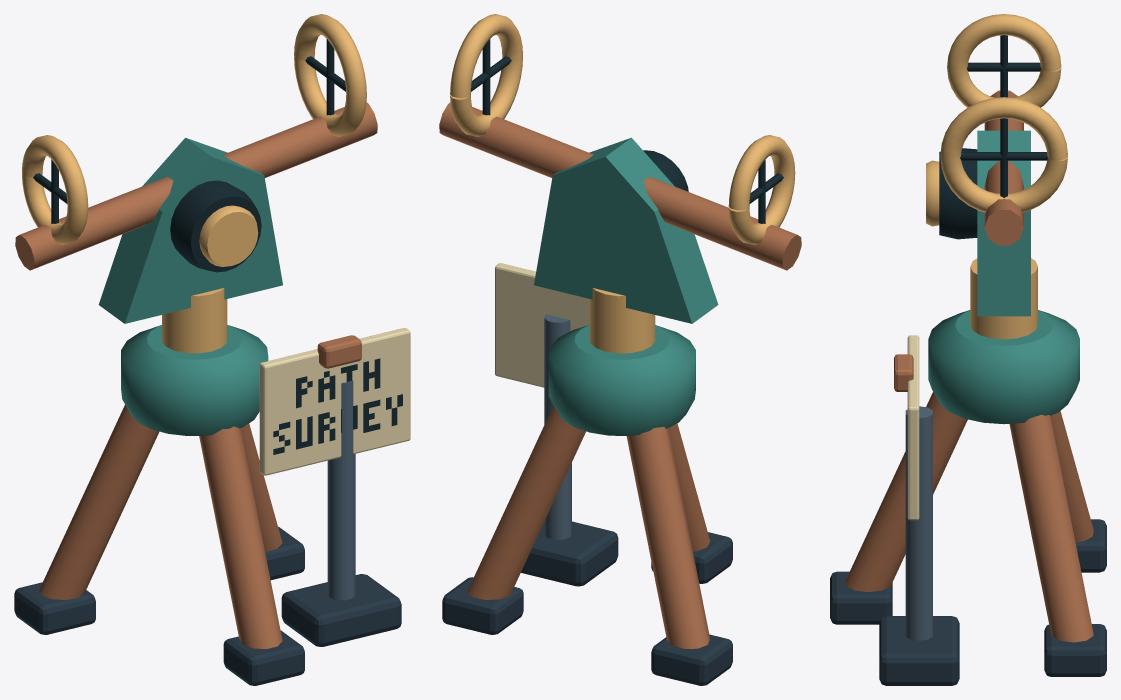
3 renders of one model, left to right at view 1: azimuth 30°, elevation 25°; view 2: azimuth 150°, elevation 25°; view 3: azimuth 270°, elevation 25°, orthographic. The views are drawn at different scales.
Visible parts, largest first — view 1: PR063 enamel and hardware; view 2: PR063 enamel and hardware; view 3: PR063 enamel and hardware.
Boxes of the visible parts, box(x1,y1,x2,y2) form: PR063 enamel and hardware: box(14, 14, 410, 685); PR063 enamel and hardware: box(439, 14, 801, 685); PR063 enamel and hardware: box(830, 14, 1106, 685).
Size of the model in its own units: 0.8625 by 1.35 by 0.5801.
